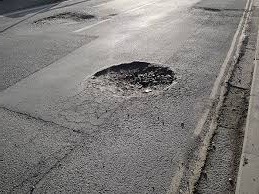pothole: (191, 82, 249, 192), (74, 59, 182, 102), (28, 8, 97, 27), (199, 5, 221, 12)
